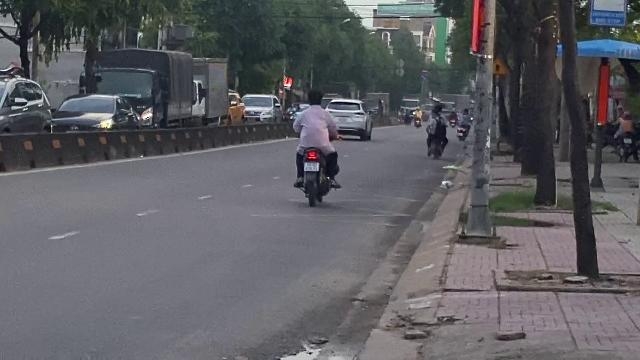licenseplate: (305, 162, 319, 172)
motorcyclist: (290, 88, 342, 206)
nohelmet: (306, 88, 322, 106)
